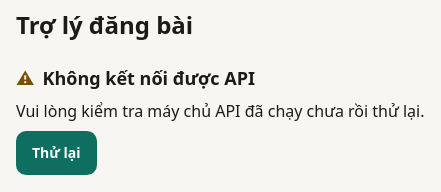
StartPage › lỗi mạng → "Không kết nối được API" kèm ⚠ và nút Thử lại; bấm thì gọi lại
Expected: the text "Không kết nối được API" is shown, [42, 65, 255, 91]
Expected: the picture named "Cảnh báo" reads "⚠", [16, 66, 34, 90]
Click the button "Thử lại": point(56, 153) [16, 131, 97, 175]
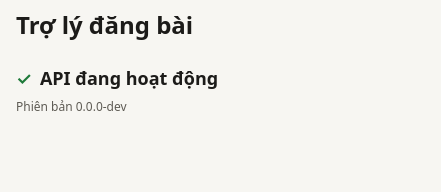
Expected: the text "API đang hoạt động" is shown, [40, 65, 218, 91]
